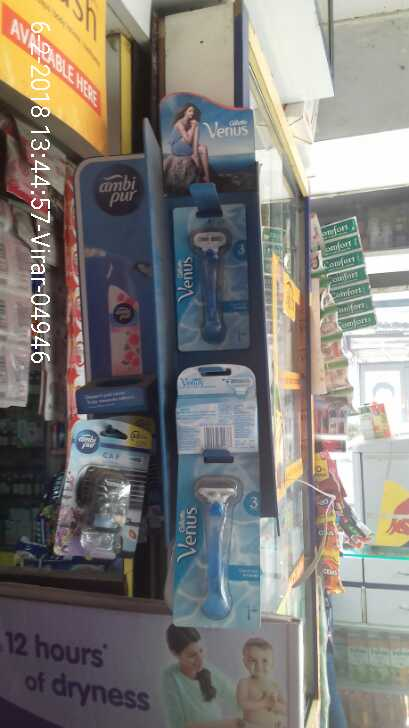beauty: (172, 444, 270, 622), (50, 417, 154, 564), (175, 200, 258, 353)
